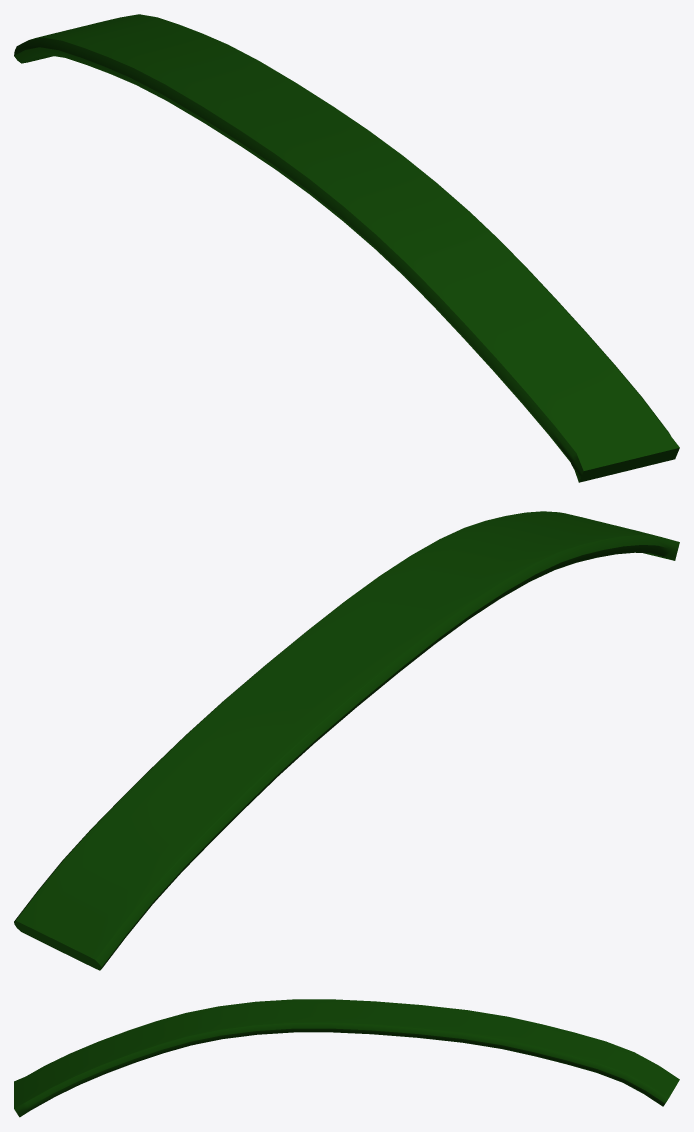
File: OverheadColumn.fbx
3 renders of one model, top to bottom at view 1: azimuth 30°, elevation 25°; view 2: azimuth 150°, elevation 25°; view 3: azimuth 270°, elevation 25°, orthographic. The views are drawn at different scales.
Parts seen in each view (by area): view 1: pasted__pCube1; view 2: pasted__pCube1; view 3: pasted__pCube1.
Boxes of the visible parts, x1,y1,x2,y2 form: pasted__pCube1: (14,14,679,482); pasted__pCube1: (14,511,679,970); pasted__pCube1: (14,999,679,1117).
Size of the model in its own units: 3.43 by 3.44 by 24.8.
